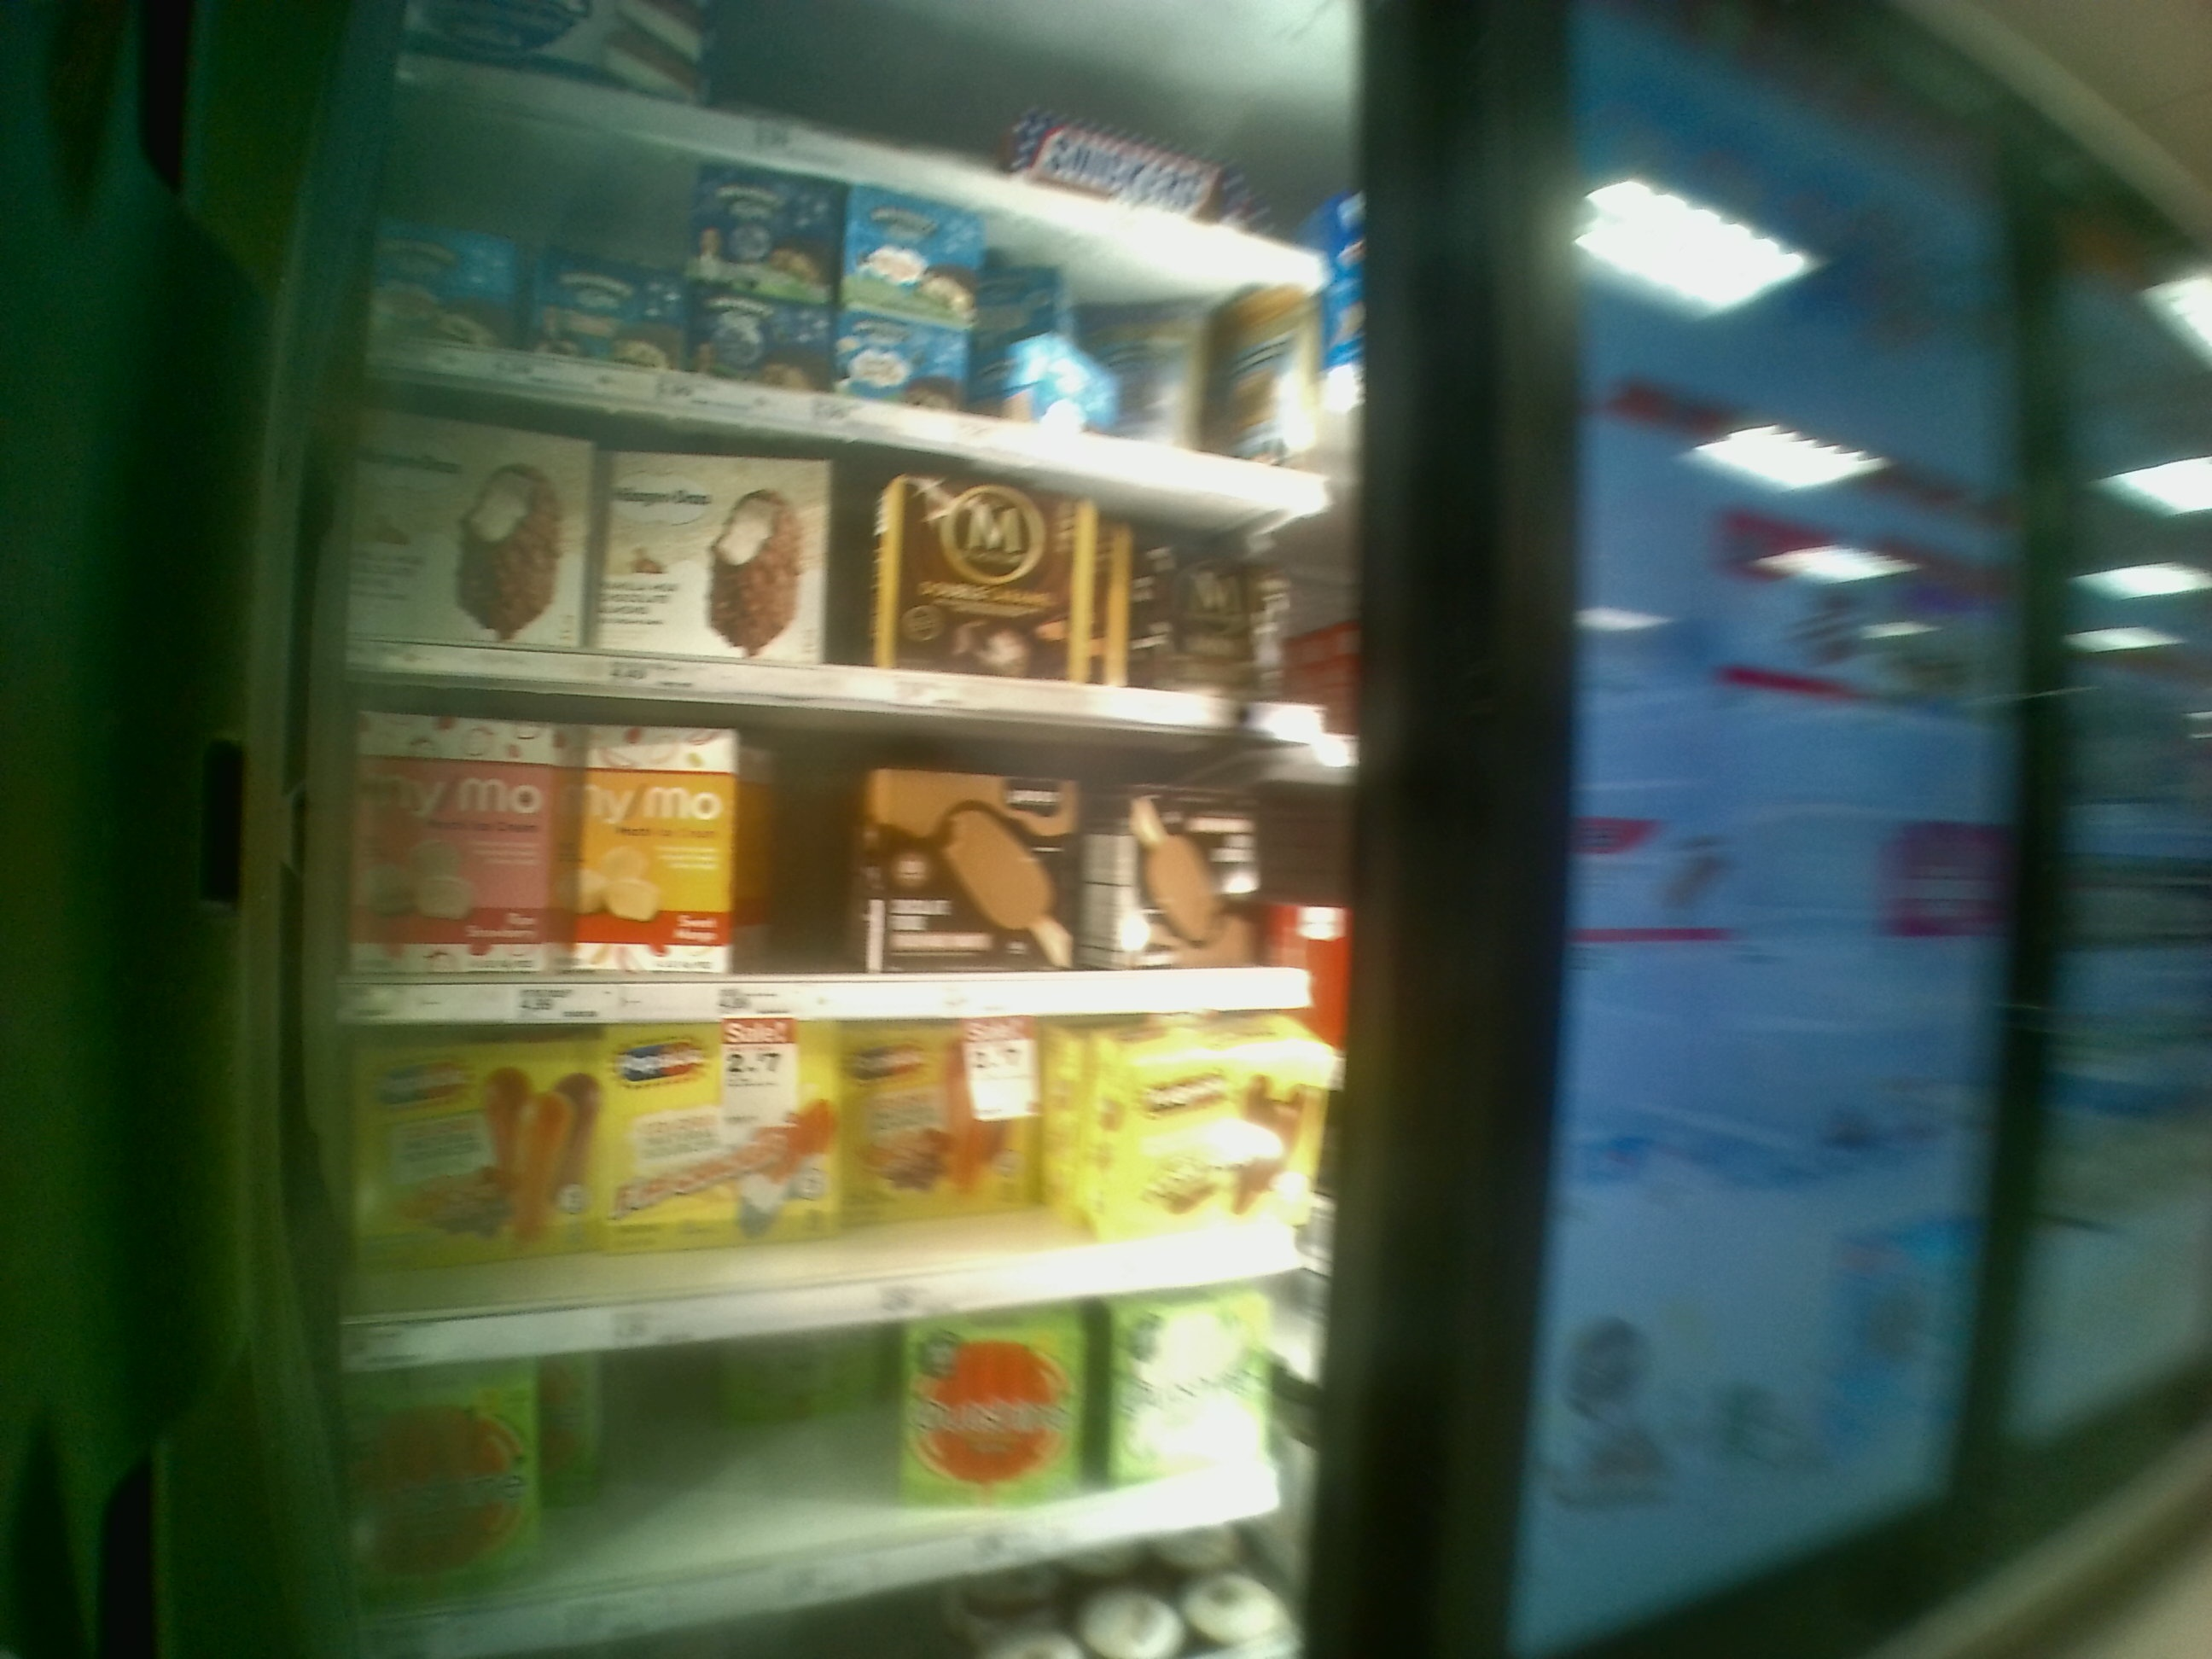shelf: (359, 373, 1338, 732), (354, 1018, 1322, 1364), (354, 681, 1343, 1019)
